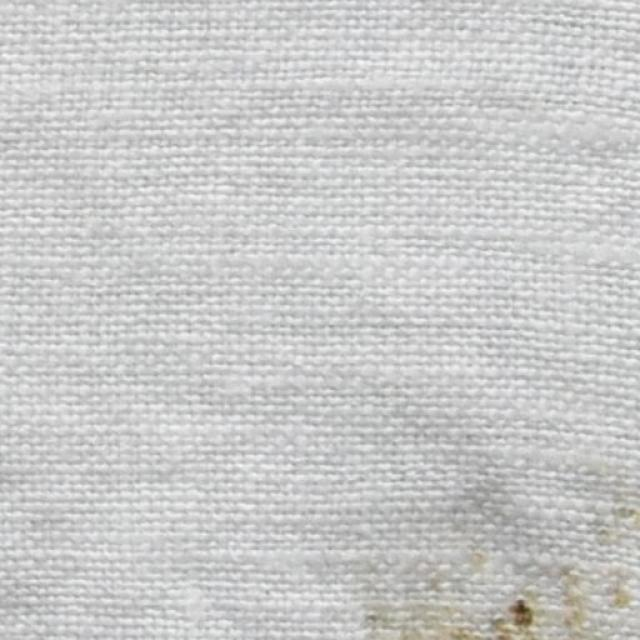Stain: (345, 468, 639, 639)
